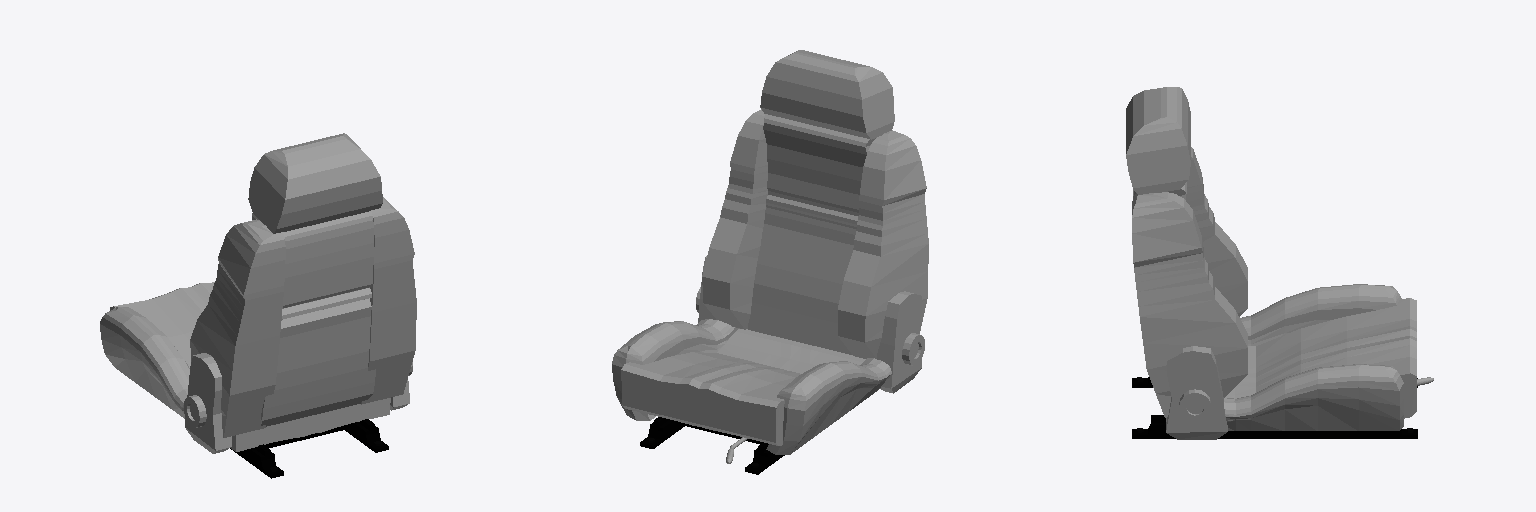
Rendered from Seat.obj.
The picture shows the model from 3 angles: view 1: azimuth 30°, elevation 25°; view 2: azimuth 150°, elevation 25°; view 3: azimuth 270°, elevation 25°; orthographic projection.
Visible parts, largest first — view 1: Seat_Cube.008; view 2: Seat_Cube.008; view 3: Seat_Cube.008.
Part boxes in pixels (left/top/right/bottom): Seat_Cube.008: left=100, top=133, right=416, bottom=478; Seat_Cube.008: left=612, top=50, right=928, bottom=474; Seat_Cube.008: left=1126, top=87, right=1433, bottom=439.
Size of the model in its own units: 0.575 by 0.7927 by 0.7183.